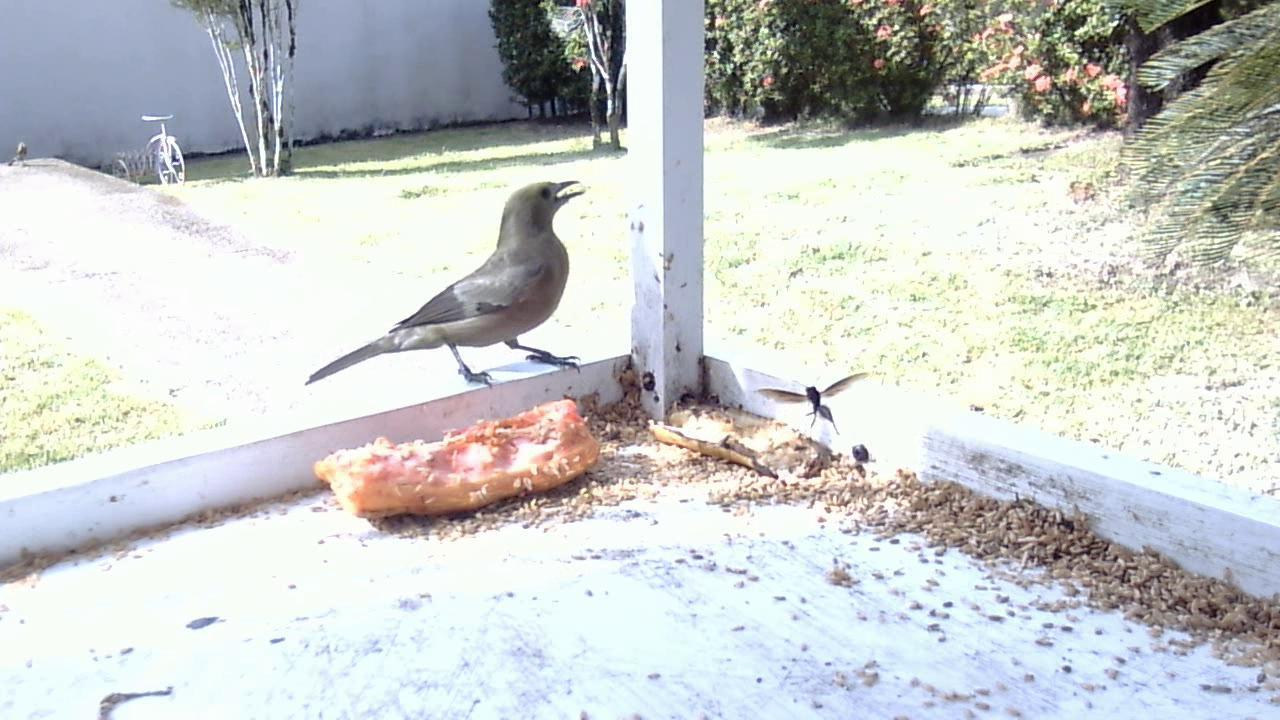sanhaco_do_coqueiro: (301, 178, 595, 408)
